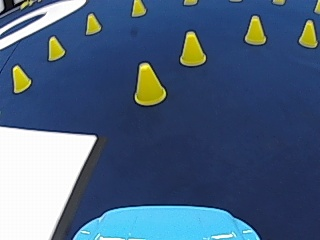cone: (133, 60, 166, 105), (178, 29, 206, 66), (243, 14, 266, 44), (297, 19, 317, 47), (11, 63, 30, 92), (47, 35, 65, 59), (84, 12, 101, 34), (130, 0, 145, 16)
